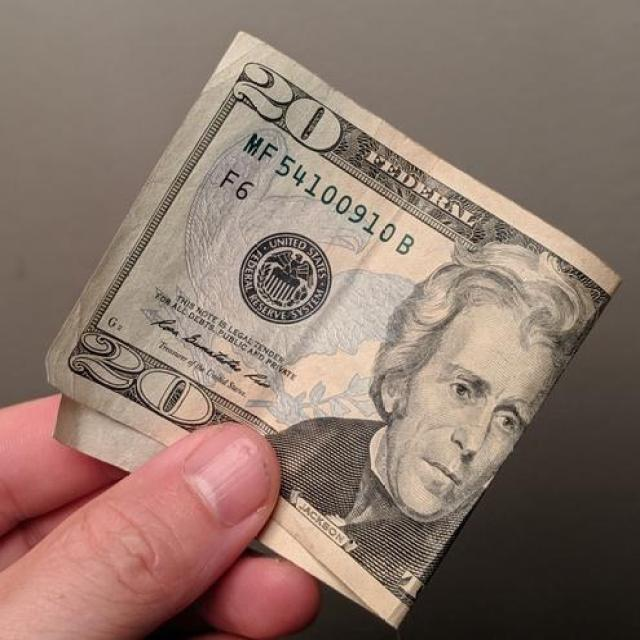20-Front: (42, 24, 624, 634)
